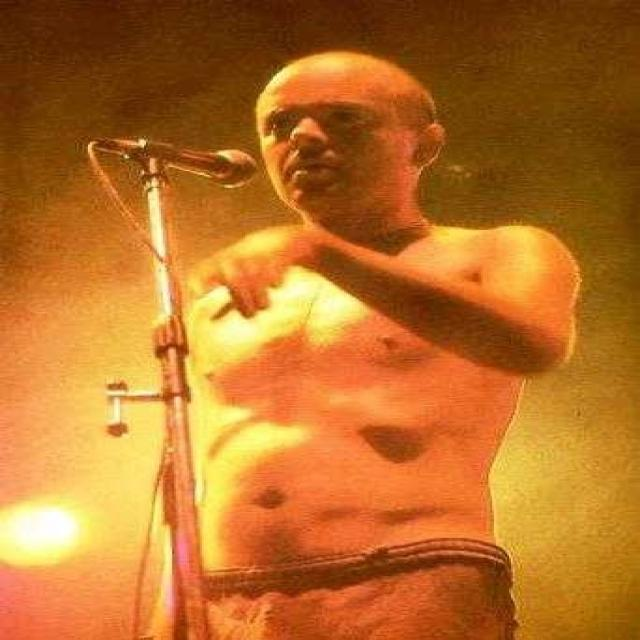microphone: (80, 130, 257, 207)
